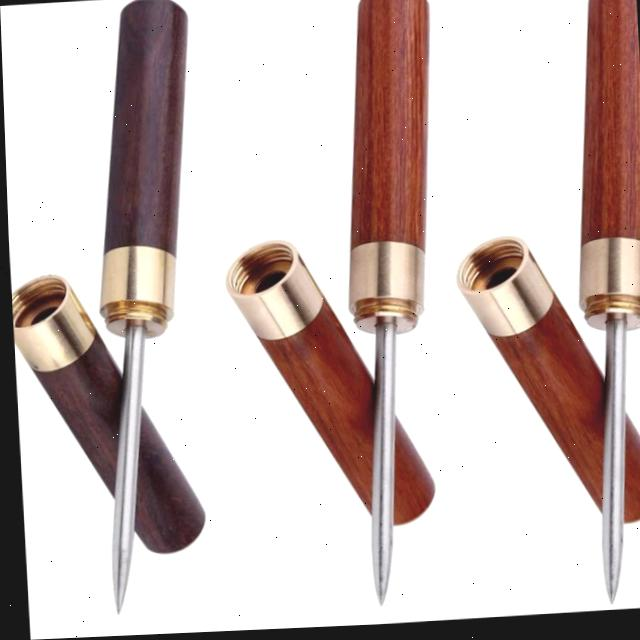ice pick: (78, 0, 216, 617), (327, 0, 457, 612), (561, 0, 640, 611)
